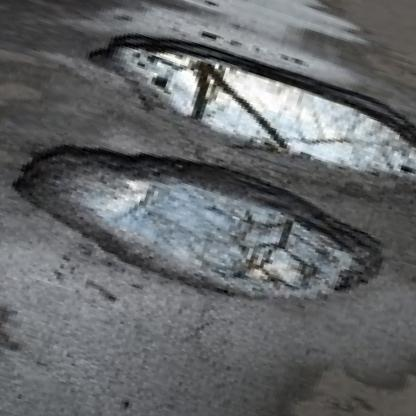pothole: (0, 103, 403, 343), (72, 3, 416, 228)
